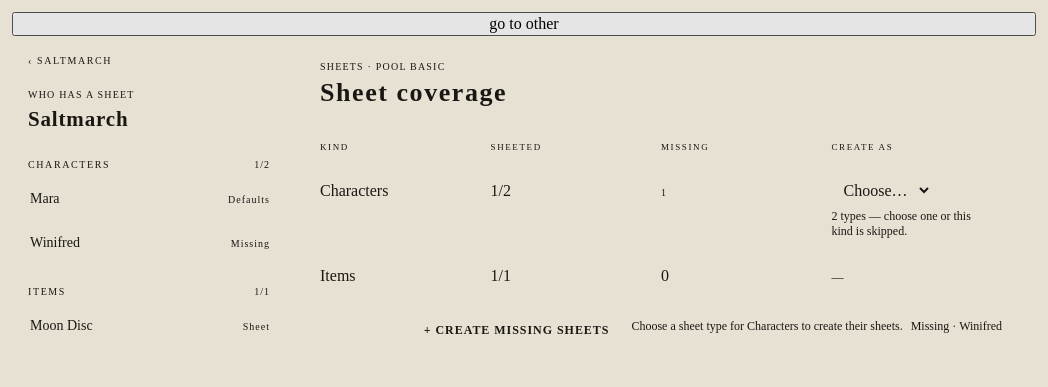
Scenario: create missing sends the chosen type per kind and reports what it did
Expected: the heading "Sheet coverage" is shown, [320,78,507,107]
Select "Shifter" in the dropdown named "Sheet type for Characters" at (882, 191), box [832,176,932,205]
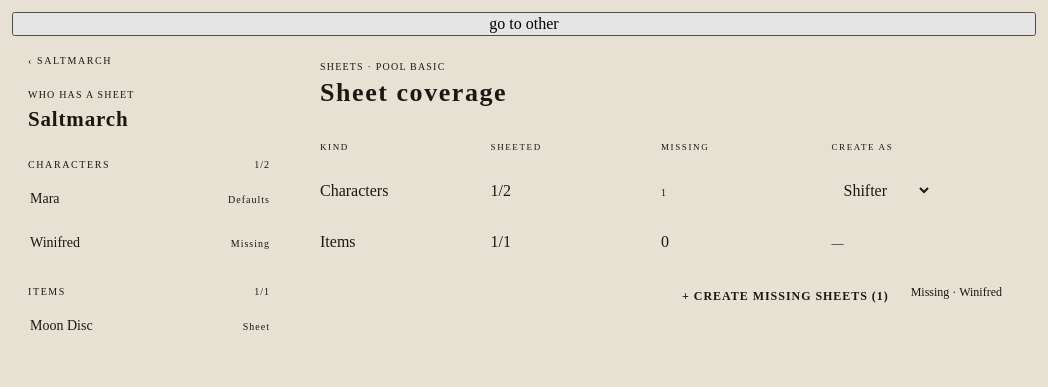
Click the button "+ Create missing sheets (1)" at (785, 297), box [668,281,903,312]
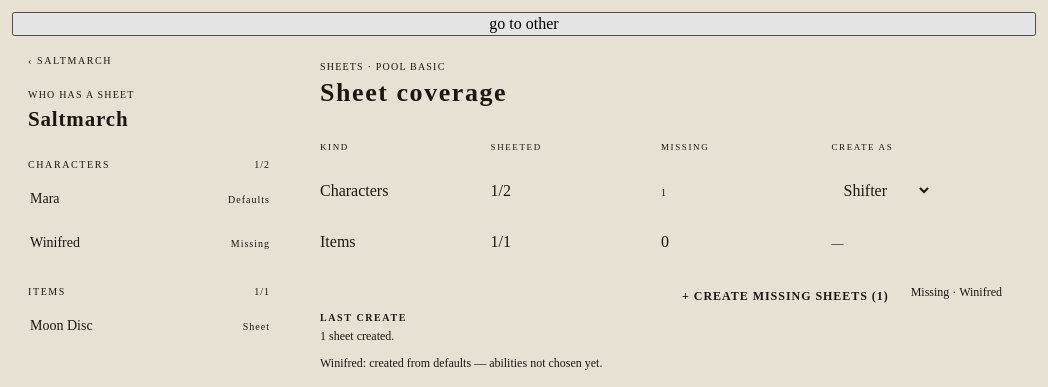
Now the text "1 sheet created." is shown, box [320,329,394,343]
Now the text "Winifred: created from defaults — abilities not chosen yet." is shown, box [320,356,602,370]
